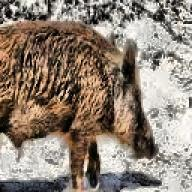boar: (0, 16, 158, 192)
